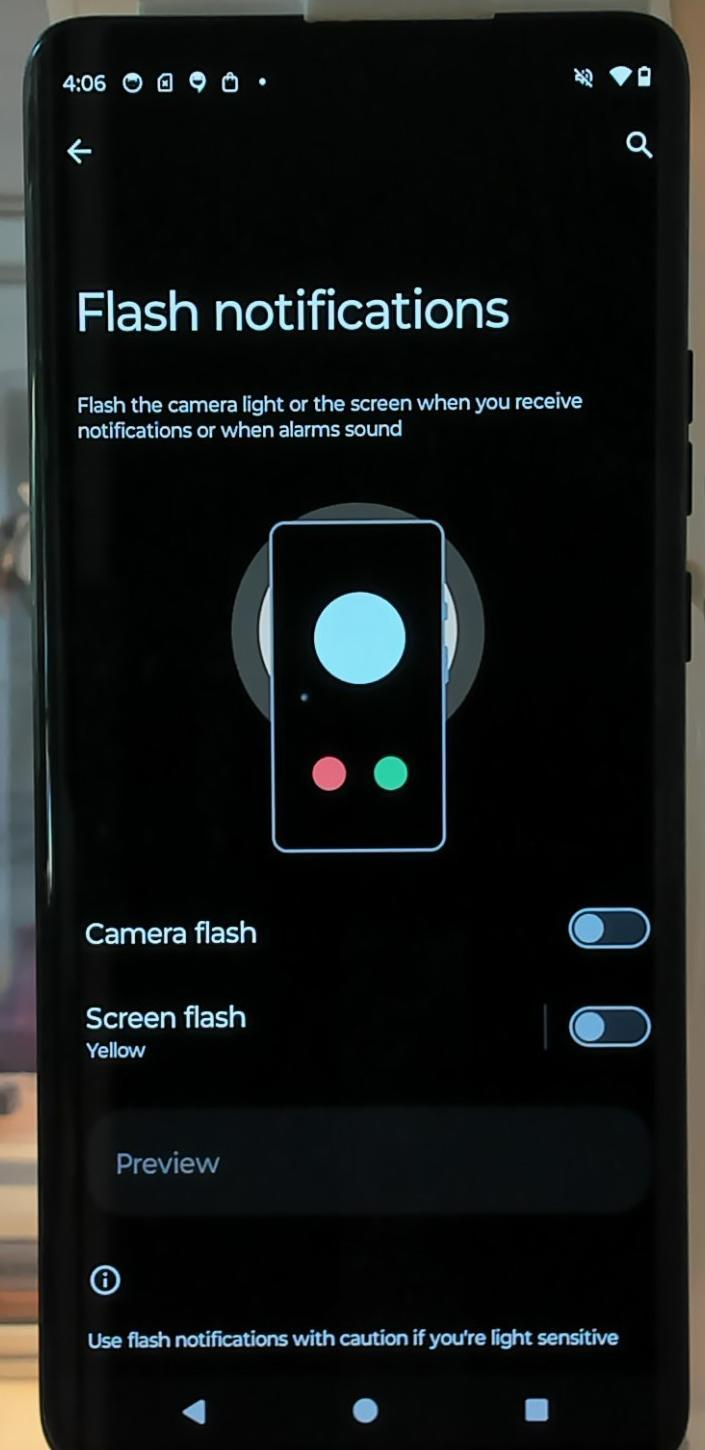Checkbox: (68, 988, 652, 1084), (75, 903, 654, 963)
